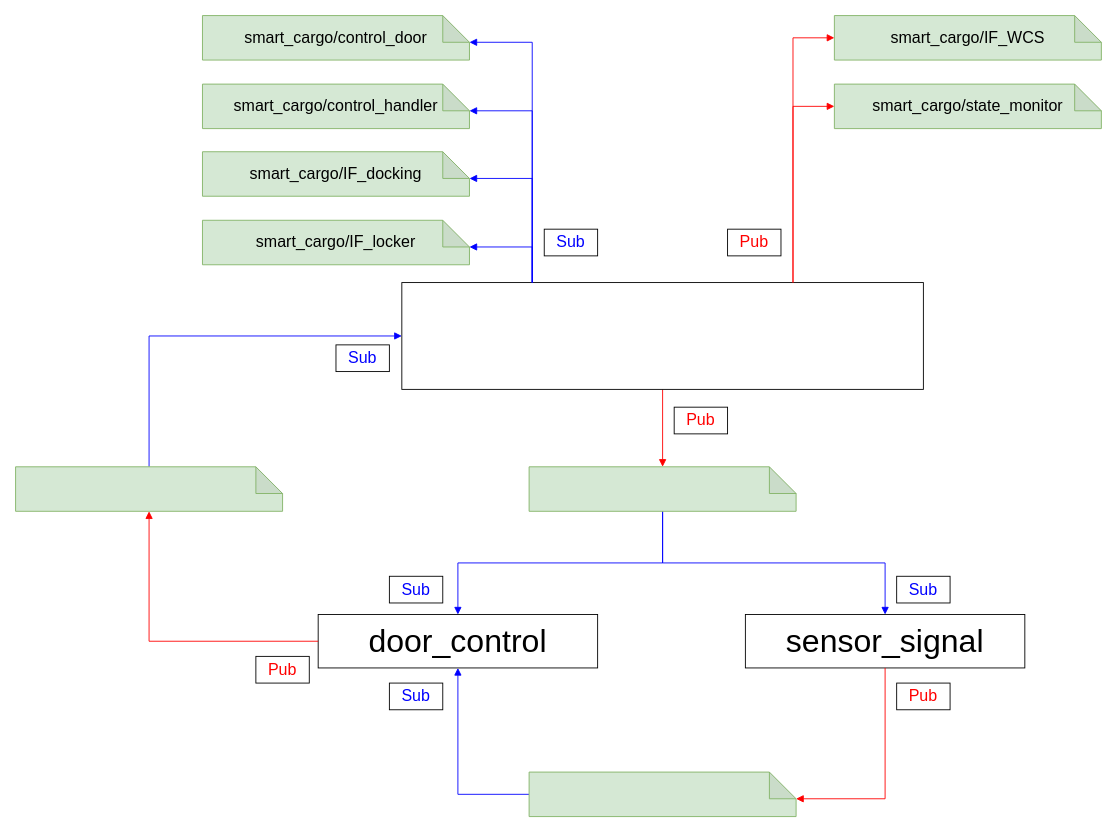
This 1117x832 diagram has some shape labels left out. Each missing label, with the centre of its shape:
smart_cargo: point (662, 335)
smart_cargo/action_complete: point (149, 488)
smart_cargo/middle_control: point (662, 488)
smart_cargo/sensor_signal: point (662, 794)
